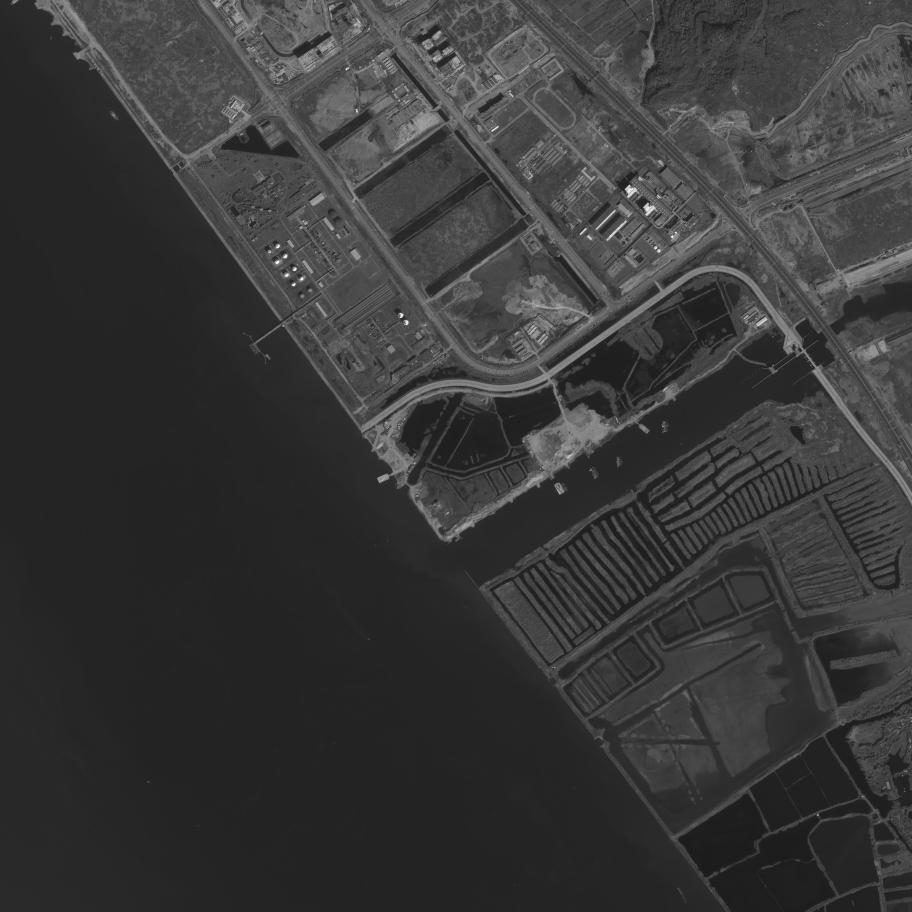ship: (676, 887, 689, 904), (554, 482, 565, 495), (108, 109, 119, 121), (560, 482, 568, 492), (264, 352, 271, 360), (589, 467, 597, 472), (592, 472, 599, 476), (594, 476, 600, 480), (590, 466, 595, 470), (593, 475, 599, 478), (591, 469, 597, 472), (594, 474, 599, 477), (593, 471, 598, 474), (592, 471, 597, 474), (147, 781, 151, 783), (592, 471, 596, 473)
storage-tank: (330, 210, 338, 219), (335, 218, 343, 226), (403, 319, 409, 325), (397, 312, 403, 318), (282, 253, 288, 259), (284, 271, 289, 277), (274, 259, 280, 264), (291, 281, 296, 286), (292, 266, 297, 271), (275, 243, 280, 248), (267, 249, 272, 254), (308, 288, 312, 293), (300, 294, 305, 298), (299, 276, 303, 281), (653, 245, 657, 249), (658, 249, 661, 253), (652, 244, 654, 246), (647, 240, 649, 242), (651, 241, 653, 243), (648, 238, 650, 240), (650, 242, 651, 244), (654, 243, 655, 245)
